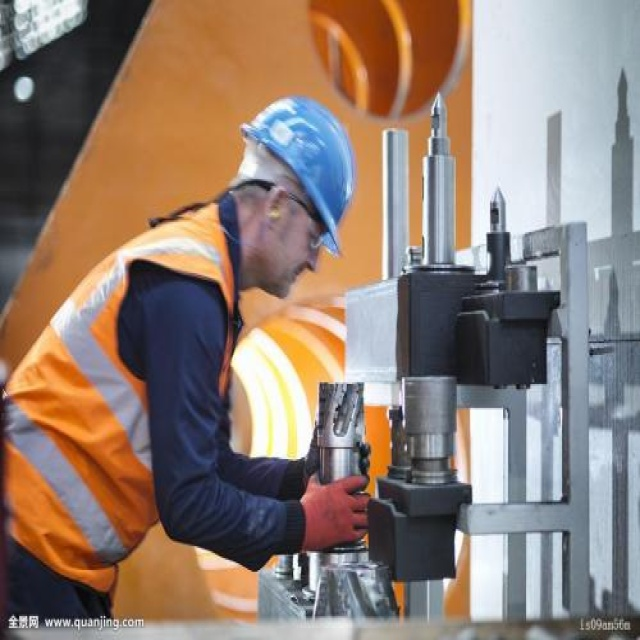Helmet: (224, 83, 369, 314)
Reflective vest: (1, 201, 243, 598)
